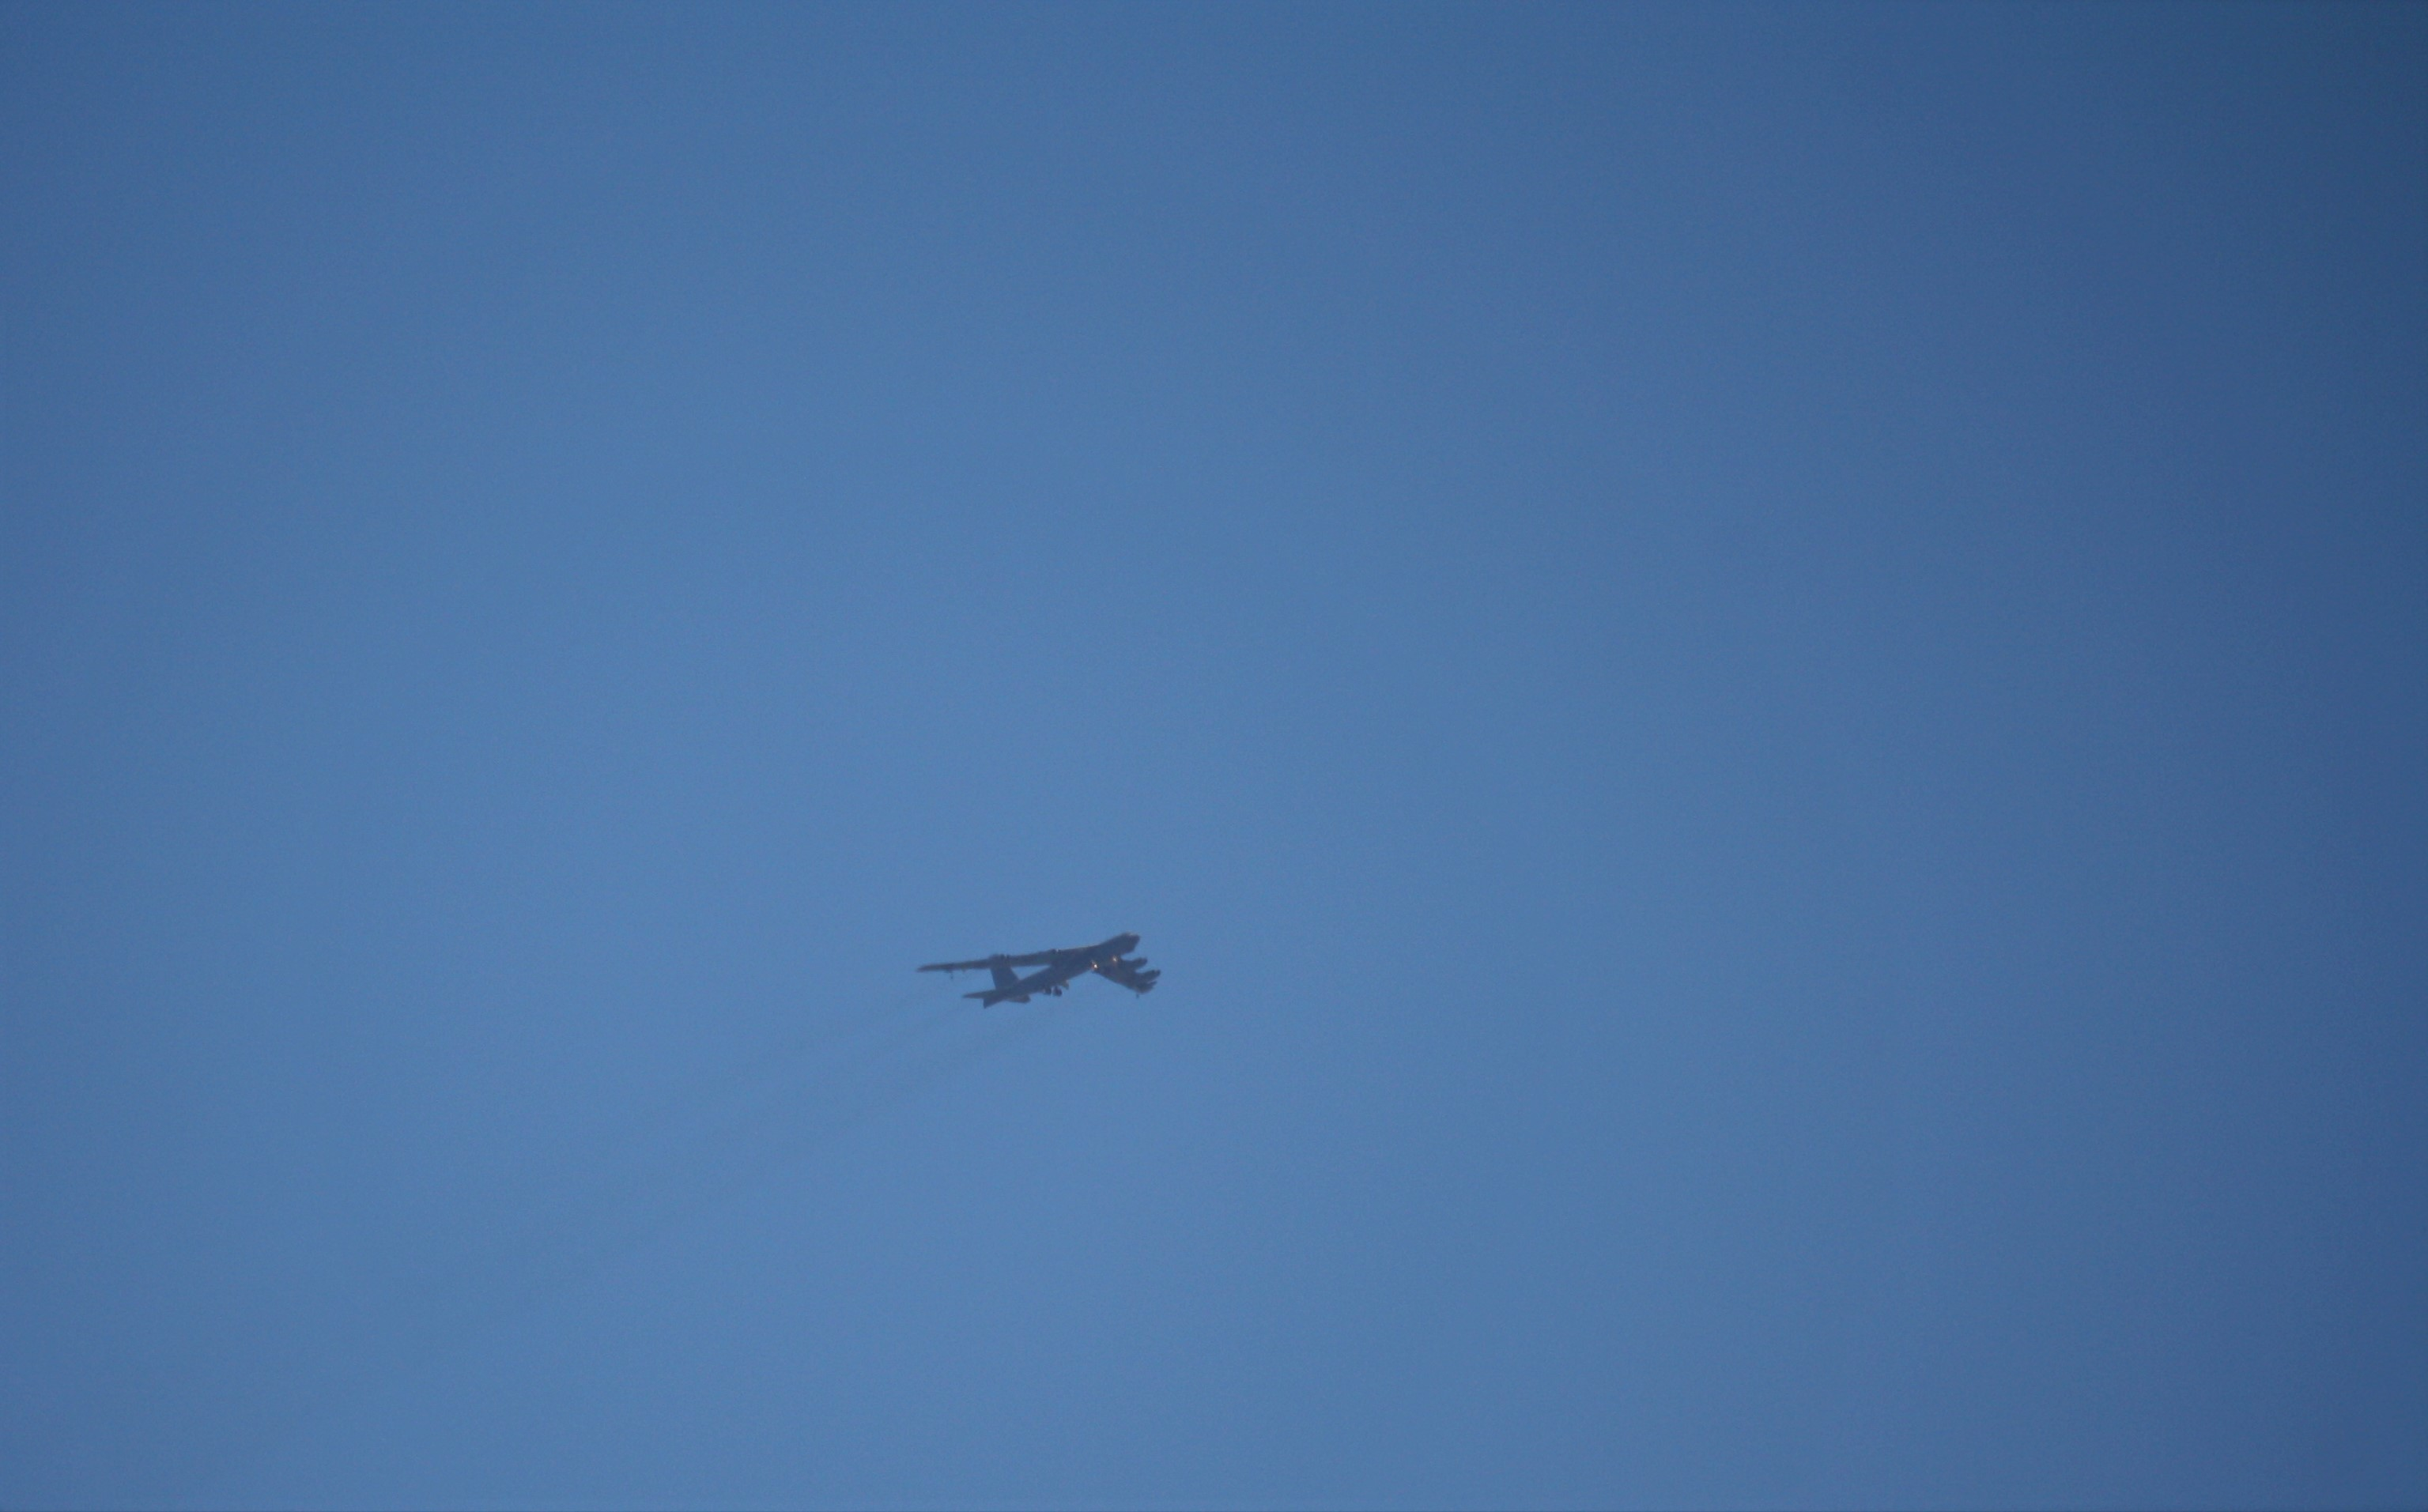B52: (914, 932, 1162, 1009)
